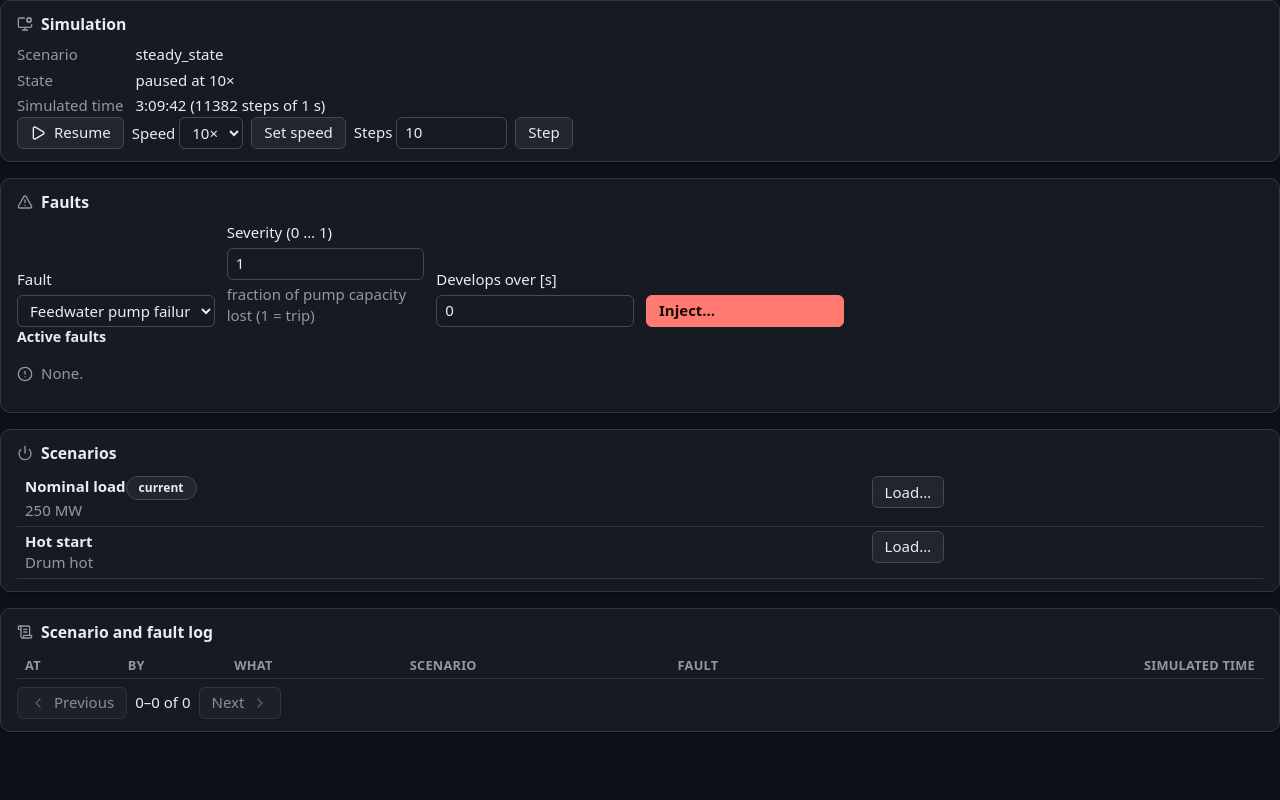
Test: scenarios › loads a scenario after a confirmation and marks the current one
Check: the text "Nominal load" shows "current", box [139,479,184,496]
Step 1. Click the button "Load…" in the row of "Hot start" → {"x": 908, "y": 546}, box [872,530,944,562]
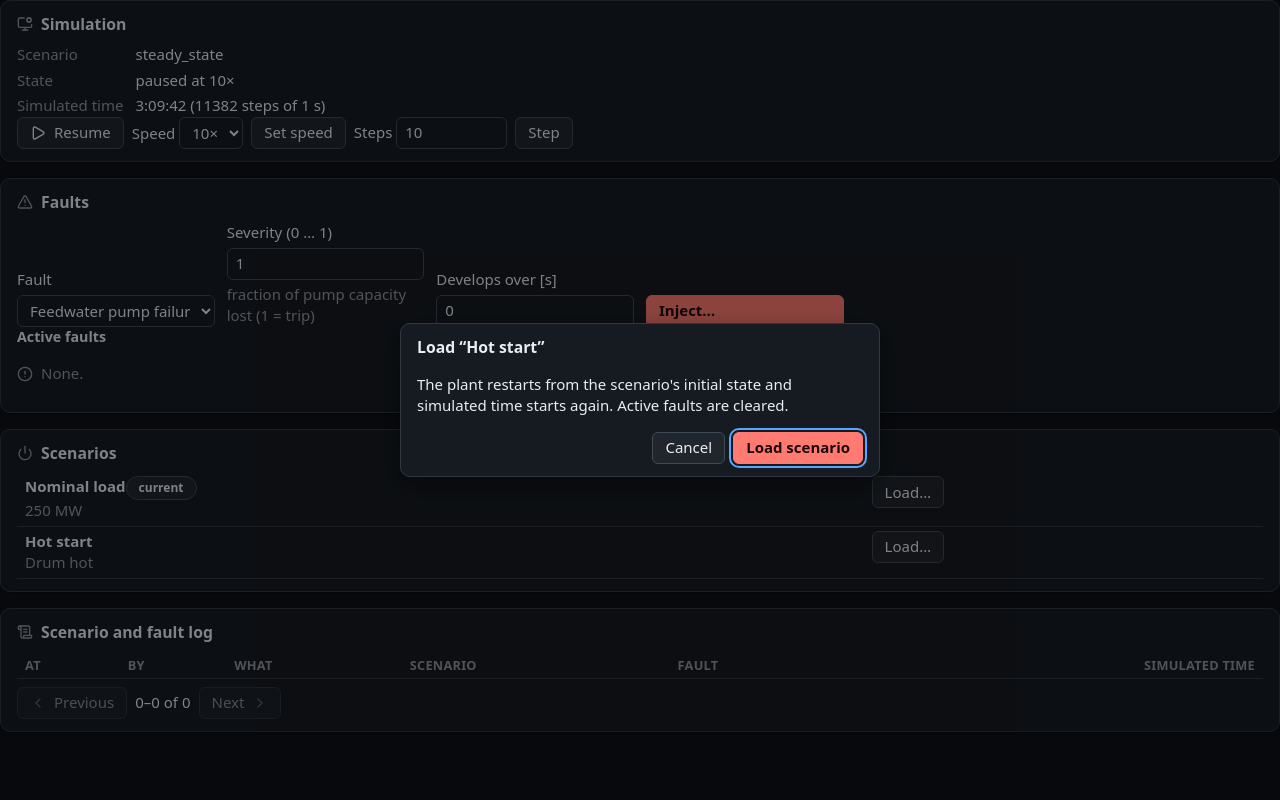
Check: the dialog shows "Load “Hot start”", box [417,336,544,358]
Step 2. Click the button "Load scenario" → {"x": 798, "y": 448}, box [733,432,863,464]
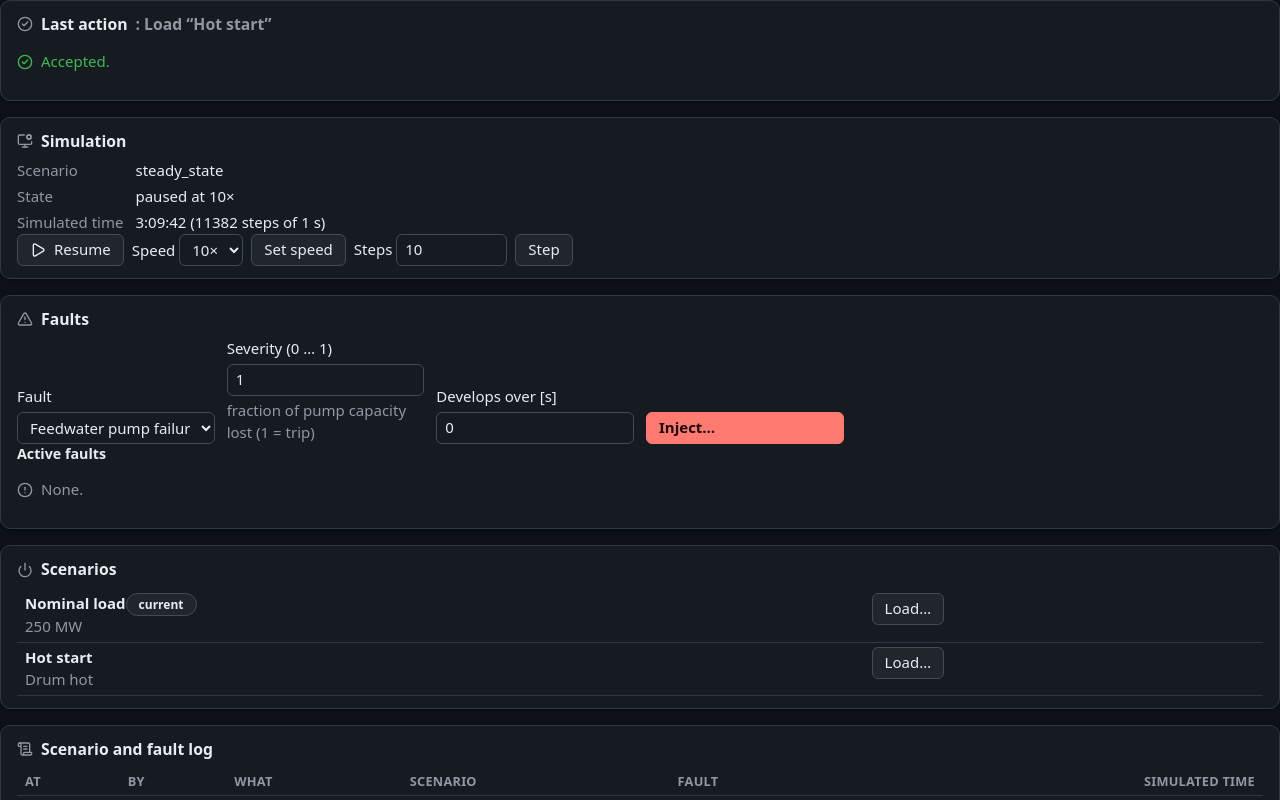
Check: the dialog is gone
